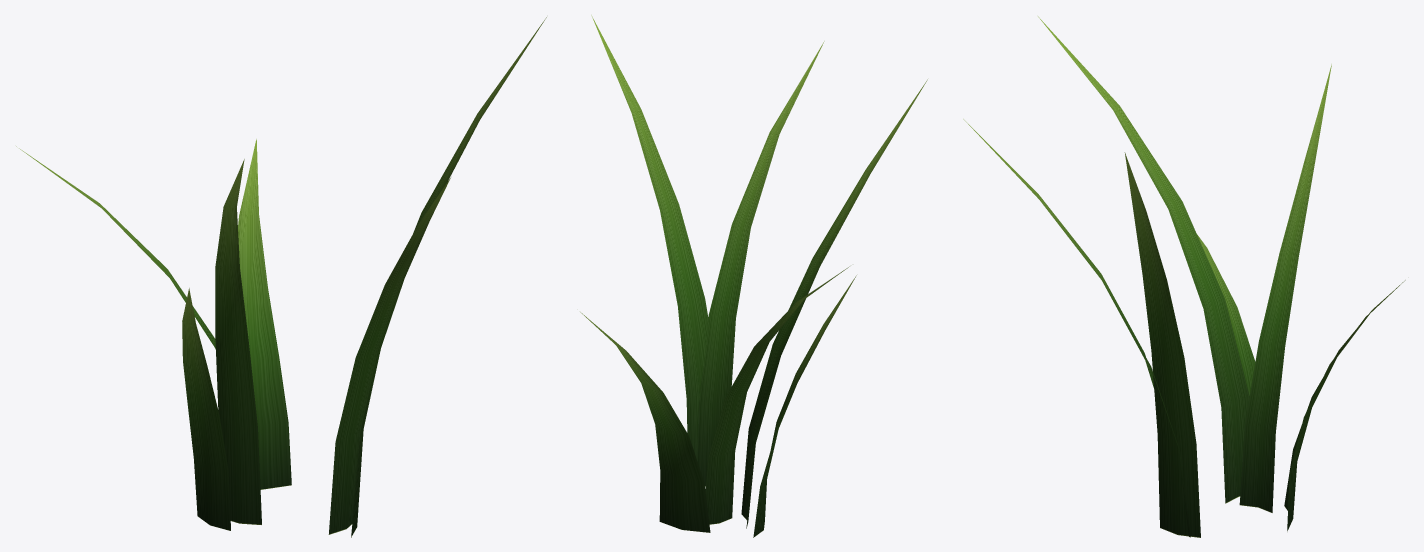
File: Grass_Tuft_Small.fbx
3 renders of one model, left to right at view 1: azimuth 30°, elevation 25°; view 2: azimuth 150°, elevation 25°; view 3: azimuth 270°, elevation 25°, orthographic. The views are drawn at different scales.
Parts seen in each view (by area): view 1: Grass_Tuft_Small; view 2: Grass_Tuft_Small; view 3: Grass_Tuft_Small.
Part boxes in pixels (x1=…): Grass_Tuft_Small: x1=16, y1=17, x2=546, y2=537; Grass_Tuft_Small: x1=580, y1=15, x2=927, y2=537; Grass_Tuft_Small: x1=963, y1=16, x2=1405, y2=537.
Size of the model in its own units: 1.3 by 1.45 by 1.3.
Materials: 1 (1 with a texture image).
